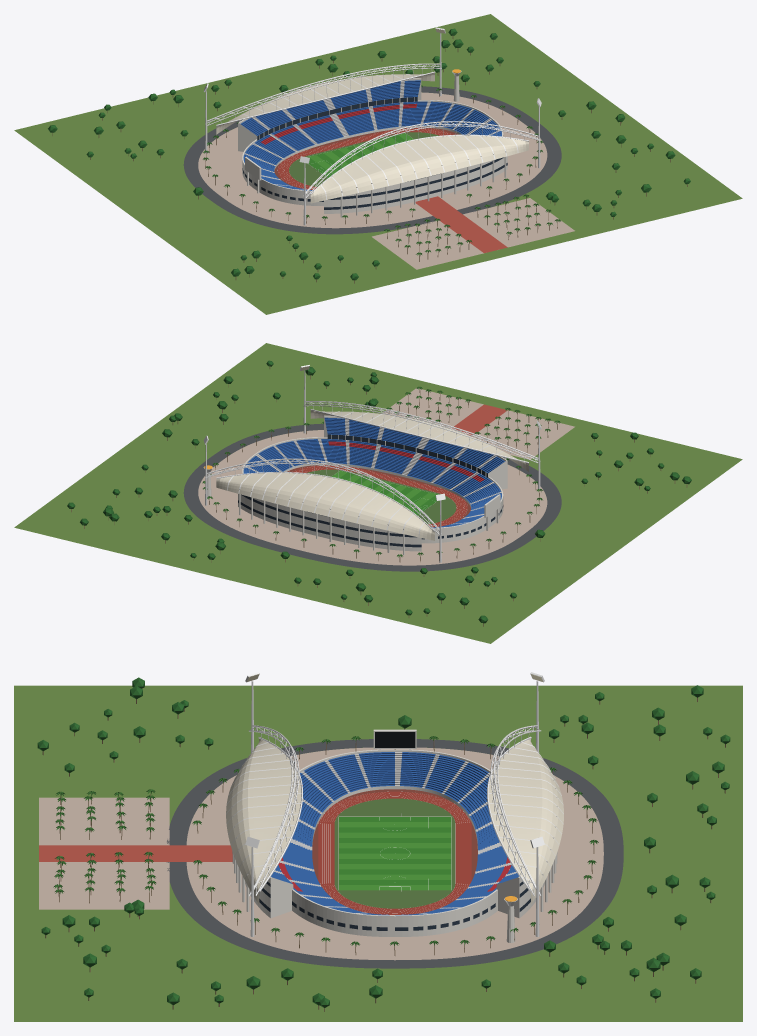
File: my_dinh_stadium.glb
3 renders of one model, top to bottom at view 1: azimuth 30°, elevation 25°; view 2: azimuth 150°, elevation 25°; view 3: azimuth 270°, elevation 25°, orthographic. The views are drawn at different scales.
Parts seen in each view (by area): view 1: Surroundings, Stands, Roof_West, Roof_East, Field, Masts_Tower; view 2: Surroundings, Stands, Roof_East, Roof_West, Field, Masts_Tower; view 3: Surroundings, Stands, Field, Roof_East, Roof_West, Masts_Tower.
Boxes of the visible parts, x1,y1,x2,y2 form: Surroundings: (14,14,742,314); Stands: (238,78,507,213); Roof_West: (303,121,540,217); Roof_East: (207,63,441,134); Field: (274,127,458,189); Masts_Tower: (203,27,541,225); Surroundings: (14,343,742,643); Stands: (238,415,507,551); Roof_East: (205,458,441,555); Roof_West: (303,401,538,471); Field: (287,465,470,527); Masts_Tower: (203,365,541,562); Surroundings: (14,677,742,1021); Stands: (245,729,544,936); Field: (312,789,477,914); Roof_East: (487,725,563,911); Roof_West: (226,725,302,911); Masts_Tower: (245,672,544,942).
Size of the model in its own units: 480 by 65.14 by 440.
